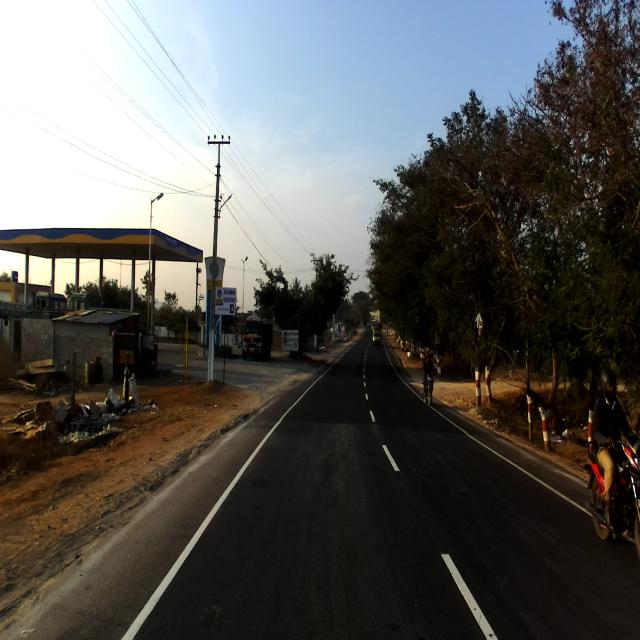electric pole ahead at: (200, 121, 234, 388)
motorcycle ahead at: (585, 368, 640, 552)
